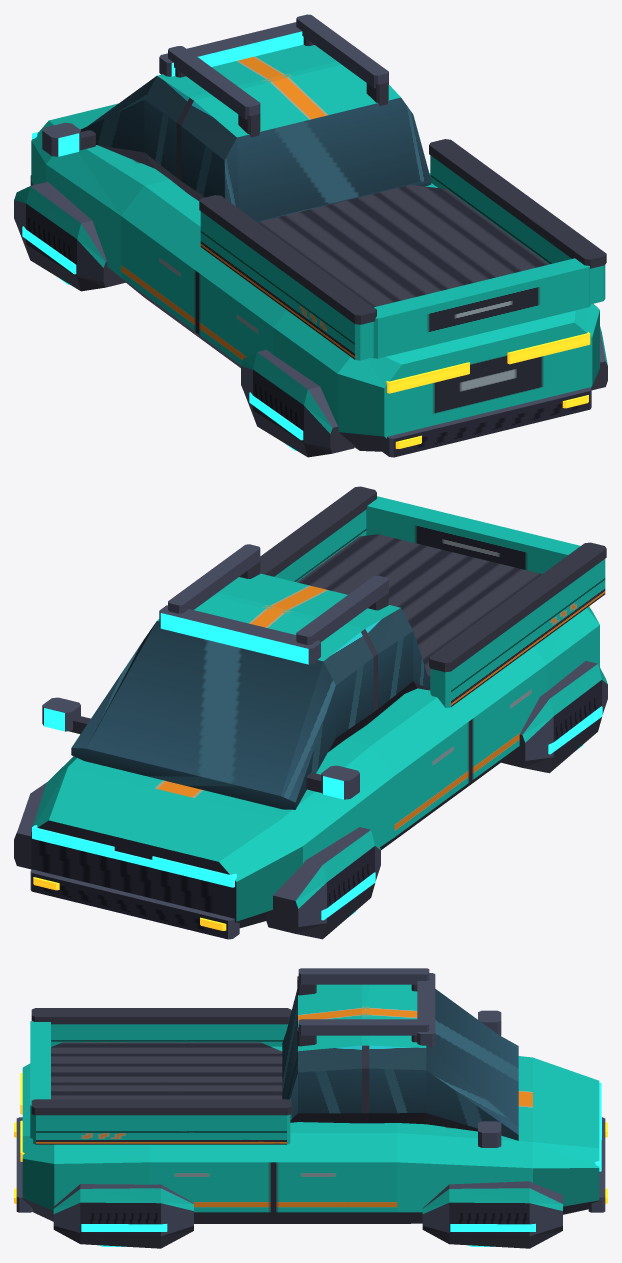
File: turquoise_pickup.glb
3 views of the same model, one above another, from view 1: azimuth 30°, elevation 25°; view 2: azimuth 150°, elevation 25°; view 3: azimuth 270°, elevation 25° (orthographic). The views are drawn at different scales.
Visible parts, largest first — view 1: hull, cab_glazing, bed_liner, tailgate, rear_pod_l, front_pod_l, bed_side, bed_cap, bed_cap.001, bumper, bed_side.001, roof_work_lights (+7 smaller); view 2: hull, cab_glazing, bed_liner, tailgate, front_pod_l, bed_side, rear_pod_l, bed_cap, bumper.001, roof_work_lights, bed_cap.001, roof_rail (+9 smaller); view 3: hull, cab_glazing, bed_liner, bed_side.001, front_pod_r, rear_pod_r, bed_side, bed_cap.001, bed_cap, roof_rail, roof_rail.001, tailgate (+7 smaller).
Boxes of the visible parts, x1,y1,x2,y2 form: hull: (31, 103, 599, 451); cab_glazing: (80, 44, 431, 222); bed_liner: (258, 185, 549, 307); tailgate: (372, 258, 590, 358); rear_pod_l: (241, 349, 354, 457); front_pod_l: (14, 181, 125, 291); bed_side: (200, 211, 373, 360); bed_cap: (199, 195, 376, 324); bed_cap.001: (429, 139, 606, 268); bumper: (382, 387, 591, 457); bed_side.001: (430, 155, 605, 304); roof_work_lights: (159, 22, 303, 76); hull: (31, 606, 599, 928); cab_glazing: (71, 573, 430, 809); bed_liner: (297, 534, 541, 682); tailgate: (366, 496, 580, 573); front_pod_l: (265, 827, 380, 939); bed_side: (430, 559, 605, 707); rear_pod_l: (500, 661, 607, 773); bed_cap: (429, 542, 606, 672); bumper.001: (30, 869, 239, 939); roof_work_lights: (159, 605, 320, 664); bed_cap.001: (260, 486, 376, 576); roof_rail: (296, 575, 388, 644); hull: (22, 1046, 599, 1223); cab_glazing: (282, 984, 518, 1140); bed_liner: (51, 1042, 282, 1099); bed_side.001: (33, 1114, 290, 1144); front_pod_r: (422, 1181, 562, 1248); rear_pod_r: (53, 1184, 193, 1248); bed_side: (51, 1024, 287, 1046); bed_cap.001: (31, 1099, 291, 1115); bed_cap: (31, 1008, 291, 1024); roof_rail: (298, 968, 429, 984); roof_rail.001: (298, 1019, 429, 1035); tailgate: (30, 1021, 50, 1138).
Size of the model in its own units: 2.26 by 1.67 by 4.63.
3 materials, 3 textured.
